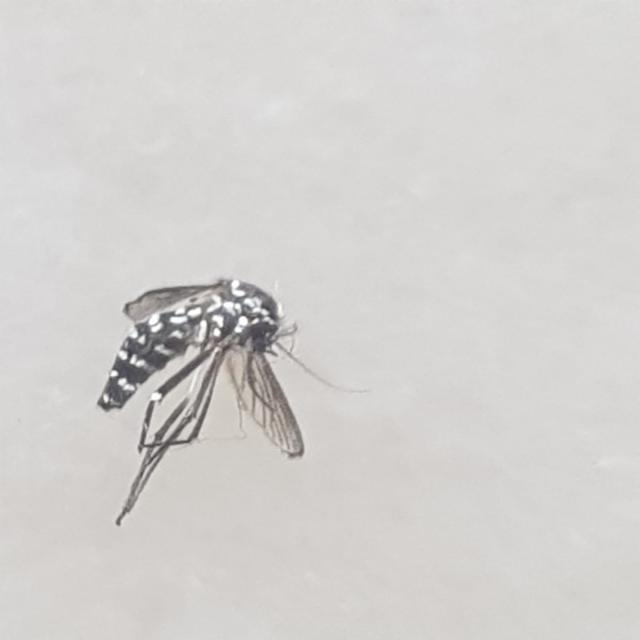albopictus: (96, 270, 378, 530)
